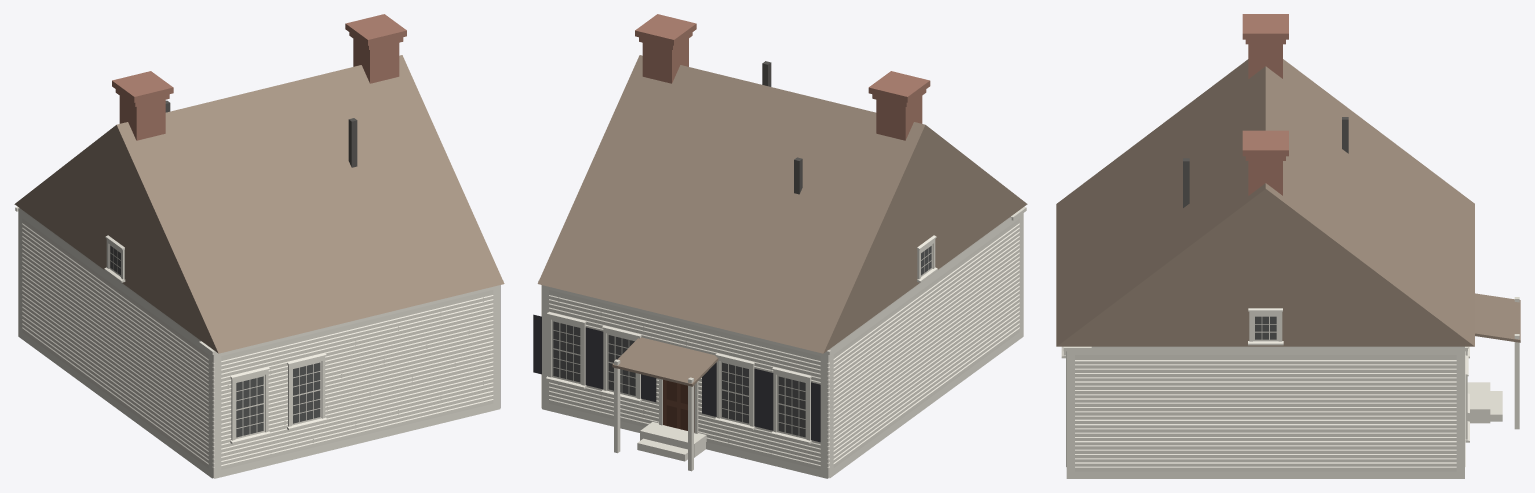
The model's file is recon_1835_north_h1_007__inferred_1835.glb.
3 renders of one model, left to right at view 1: azimuth 30°, elevation 25°; view 2: azimuth 150°, elevation 25°; view 3: azimuth 270°, elevation 25°, orthographic. The views are drawn at different scales.
Parts seen in each view (by area): view 1: recon_1835_north_h1_007__inferred_1835; view 2: recon_1835_north_h1_007__inferred_1835; view 3: recon_1835_north_h1_007__inferred_1835.
Boxes of the visible parts, left/top/right/bottom form: recon_1835_north_h1_007__inferred_1835: left=14, top=14, right=504, bottom=478; recon_1835_north_h1_007__inferred_1835: left=533, top=14, right=1027, bottom=478; recon_1835_north_h1_007__inferred_1835: left=1056, top=14, right=1520, bottom=478.
Size of the model in its own units: 8.55 by 8.69 by 11.25.
